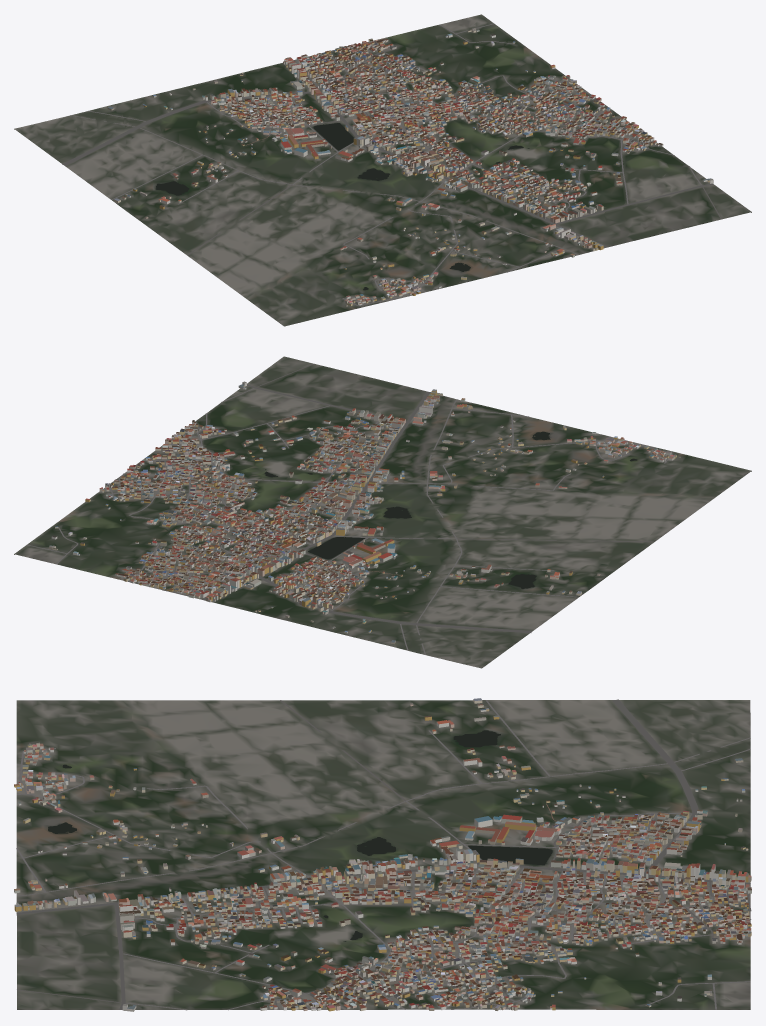
3 views of the same model, one above another, from view 1: azimuth 30°, elevation 25°; view 2: azimuth 150°, elevation 25°; view 3: azimuth 270°, elevation 25° (orthographic). The views are drawn at different scales.
Parts seen in each view (by area): view 1: ground, buildings, roads, water; view 2: ground, buildings, roads, water; view 3: ground, buildings, roads, water.
Boxes of the visible parts, x1,y1,x2,y2 form: ground: (14, 14, 751, 326); buildings: (107, 28, 713, 306); roads: (62, 23, 721, 305); water: (155, 123, 529, 290); ground: (14, 356, 751, 668); buildings: (49, 381, 680, 644); roads: (27, 363, 672, 654); water: (264, 431, 637, 588); ground: (16, 700, 750, 1009); buildings: (14, 698, 751, 1011); roads: (16, 699, 751, 1010); water: (48, 730, 552, 941).
Size of the model in its own units: 1412 by 31.49 by 1410.
